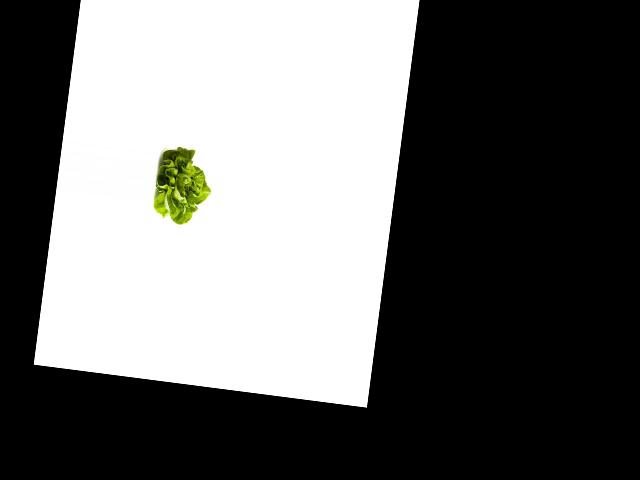lettuce: (150, 143, 215, 230)
